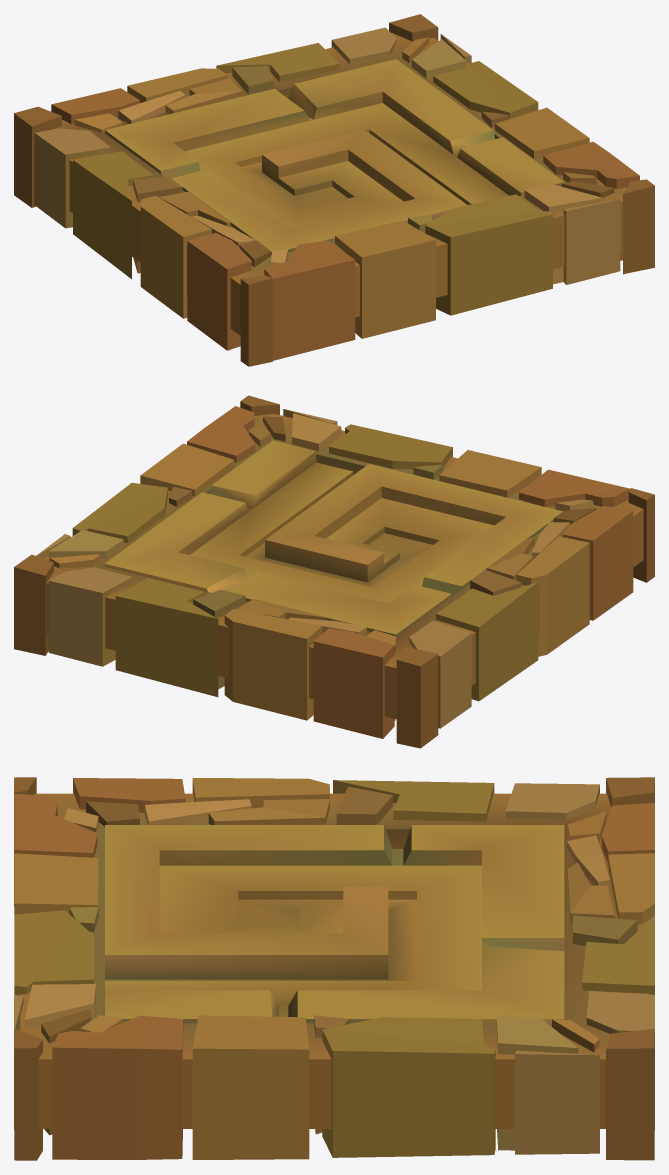
File: ENV_Adventure_Tile_01.fbx
3 renders of one model, top to bottom at view 1: azimuth 30°, elevation 25°; view 2: azimuth 150°, elevation 25°; view 3: azimuth 270°, elevation 25°, orthographic. The views are drawn at different scales.
Parts seen in each view (by area): view 1: ENV_Adventure_Tile_01; view 2: ENV_Adventure_Tile_01; view 3: ENV_Adventure_Tile_01.
Part boxes in pixels (<box>): ENV_Adventure_Tile_01: <box>14,14,654,366</box>; ENV_Adventure_Tile_01: <box>14,395,654,748</box>; ENV_Adventure_Tile_01: <box>14,777,654,1160</box>.
Bounding box in the file's own units: 400 × 78.66 × 400.
